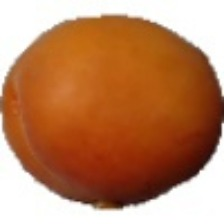apricot: (14, 32, 196, 214)
